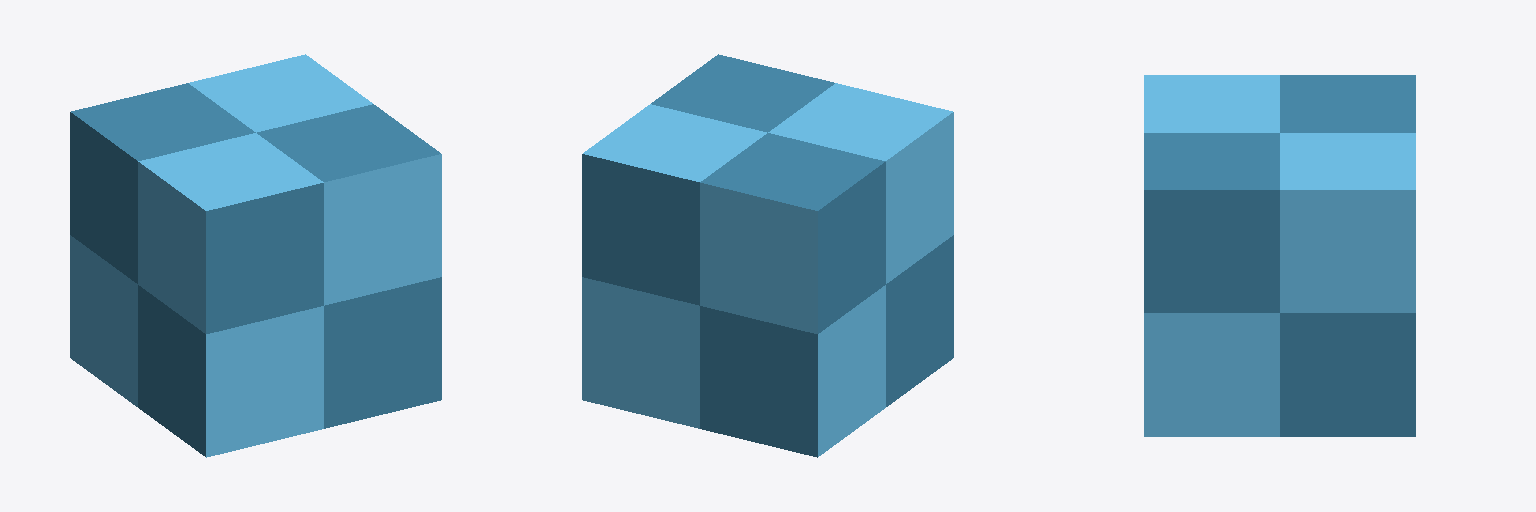
3 views of the same model, side by side, from view 1: azimuth 30°, elevation 25°; view 2: azimuth 150°, elevation 25°; view 3: azimuth 270°, elevation 25° (orthographic).
Parts seen in each view (by area): view 1: mesh; view 2: mesh; view 3: mesh.
Boxes of the visible parts, <box> form: mesh: <box>70,54,441,457</box>; mesh: <box>582,54,953,457</box>; mesh: <box>1144,75,1415,436</box>.
Bounding box in the file's own units: 2 × 2 × 2.
Materials: 1 (1 with a texture image).